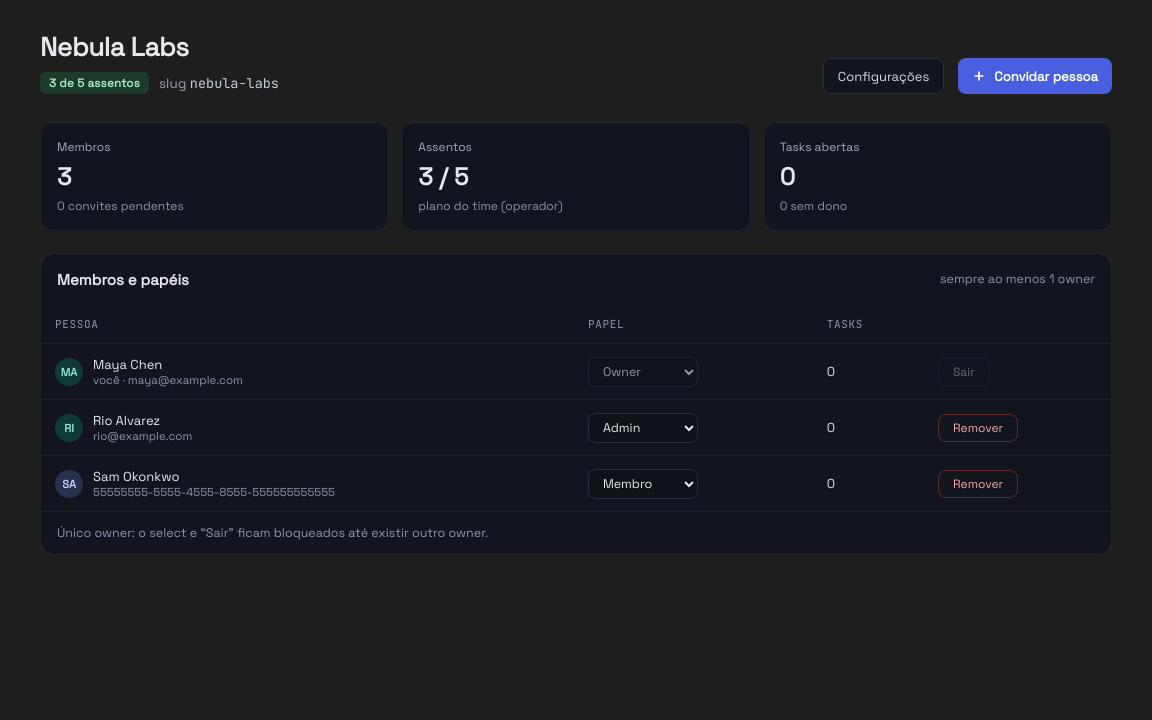
Test: TeamPage overview: header, seats, members › changes a role through the existing IPC and reloads the members
The image size is (1152, 720).
Select "Admin" in the dropdown named "Papel de Sam Okonkwo": {"x": 643, "y": 484} [588,468,698,498]
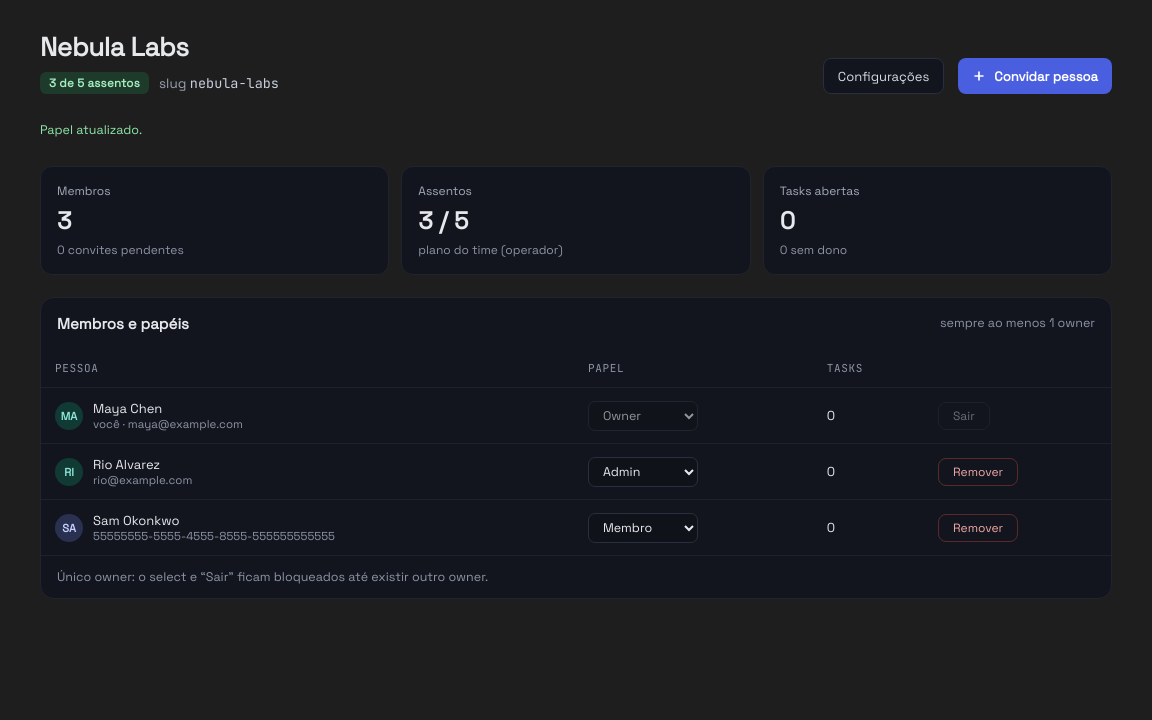
Expected: the text "Papel atualizado." is shown, [40,122,142,138]
